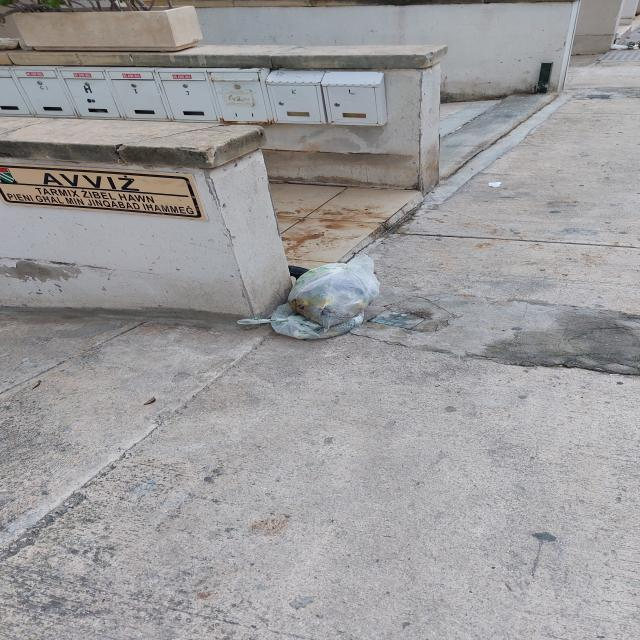Organic Waste -White Bag-: (286, 255, 388, 332), (238, 304, 367, 342)
